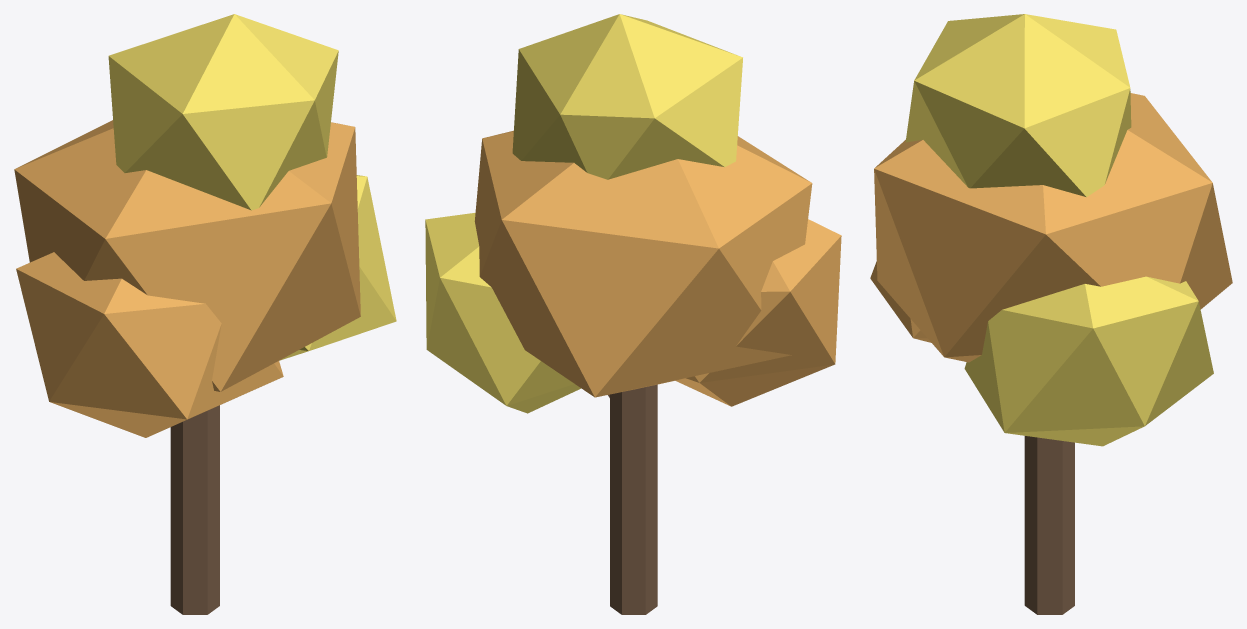
File: SM_Tree_Round_Autumn.fbx
The picture shows the model from 3 angles, left to right: view 1: azimuth 30°, elevation 25°; view 2: azimuth 150°, elevation 25°; view 3: azimuth 270°, elevation 25°; orthographic projection. The views are drawn at different scales.
Visible parts, largest first — view 1: SM_Tree_Round_Autumn; view 2: SM_Tree_Round_Autumn; view 3: SM_Tree_Round_Autumn.
Boxes of the visible parts, x1=… form: SM_Tree_Round_Autumn: x1=14, y1=14, x2=396, y2=614; SM_Tree_Round_Autumn: x1=425, y1=14, x2=841, y2=614; SM_Tree_Round_Autumn: x1=870, y1=14, x2=1232, y2=614.
Size of the model in its own units: 2.25 by 3.45 by 1.87.
